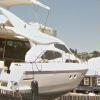Boat: (4, 7, 88, 97)
